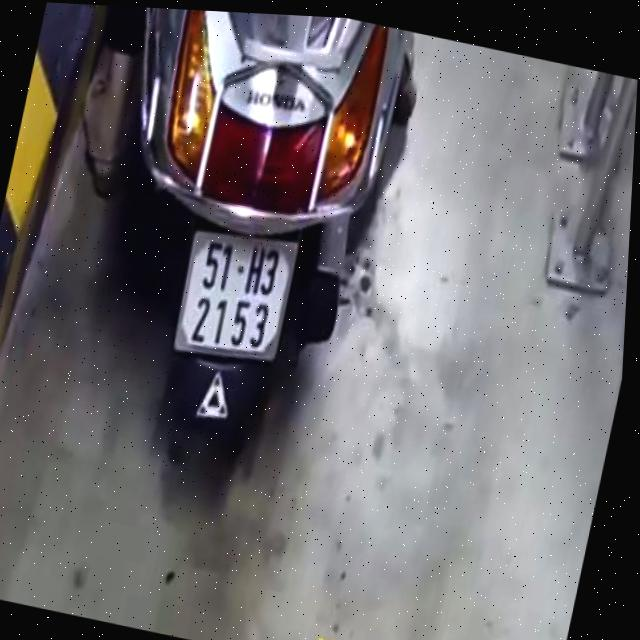motorcycle: (30, 3, 445, 518)
plate: (164, 219, 308, 377)
